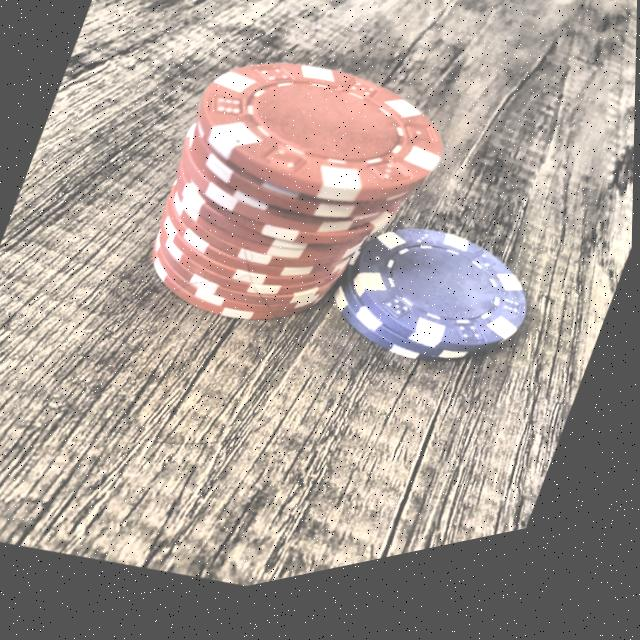Chip: (122, 15, 471, 401), (313, 199, 557, 430)
